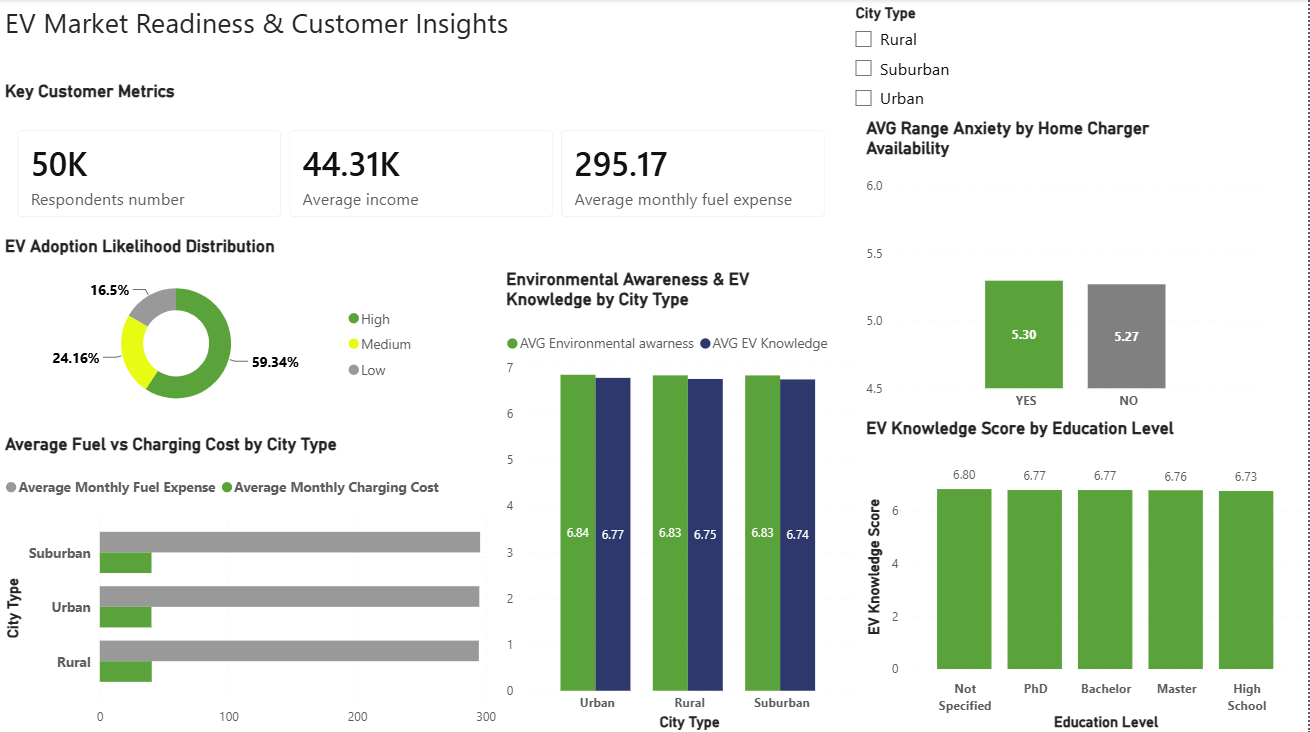

The dashboard page shown, as its layout file describes it:
{"tool":"powerbi","page":{"name":"Page 1","canvas":[1280,720],"ordinal":0},"visuals":[{"type":"cardVisual","title":"Key Customer Metrics","fields":{"Data":["CountNonNull(Dim_Customer - Sheet1.CustomerID)","Avg(Dim_Customer - Sheet1.annual_income)","Avg(Dim_Customer - Sheet1.fuel_expense_per_month)"]},"box":[0,79.5,824.2,151.6],"z":0},{"type":"donutChart","title":"EV Adoption Likelihood Distribution","fields":{"Category":["Fact_EV_Readiness - Sheet1.ev_adoption_likelihood"],"Y":["CountNonNull(Dim_Customer - Sheet1.CustomerID)"]},"box":[0,231.1,417,179.8],"z":1000},{"type":"clusteredBarChart","title":"Average Fuel vs Charging Cost by City Type","fields":{"Category":["Dim_Customer - Sheet1.city_type"],"Y":["Avg(Dim_Customer - Sheet1.fuel_expense_per_month)","Avg(Fact_EV_Readiness - Sheet1.monthly_charging_cost)"]},"box":[0,425.5,490.4,294.7],"z":2000},{"type":"columnChart","title":"AVG Range Anxiety by Home Charger Availability","fields":{"Category":["Fact_EV_Readiness - Sheet1.Home Charging Label"],"Y":["Avg(Fact_EV_Readiness - Sheet1.range_anxiety_score)"]},"box":[842.5,116.2,397.4,294.7],"z":2001},{"type":"textbox","box":[0,0,824.2,75.8],"z":2002},{"type":"slicer","fields":{"Values":["Dim_Customer - Sheet1.city_type"]},"box":[824.2,0,218.9,114.9],"z":2004},{"type":"columnChart","title":"EV Knowledge Score by Education Level","fields":{"Category":["Dim_Customer - Sheet1.education_level"],"Y":["Avg(Fact_EV_Readiness - Sheet1.ev_knowledge_score)"]},"box":[842.5,409.6,437.8,310.6],"z":2005},{"type":"clusteredColumnChart","title":"Environmental Awareness & EV Knowledge by City Type","fields":{"Category":["Dim_Customer - Sheet1.city_type"],"Y":["Avg(Fact_EV_Readiness - Sheet1.environmental_awareness_score)","Avg(Fact_EV_Readiness - Sheet1.ev_knowledge_score)"]},"box":[490.4,264.1,352.2,456.1],"z":2006}]}

Visuals, with their boxes in screenshot pixels (x1, y1, x2, y2), scaled from the page's 1280x720 canvas onto the 1310x732 screenshot:
"Key Customer Metrics" cardVisual: crop(0, 81, 844, 235)
"EV Adoption Likelihood Distribution" donutChart: crop(0, 235, 427, 418)
"Average Fuel vs Charging Cost by City Type" clusteredBarChart: crop(0, 433, 502, 731)
"AVG Range Anxiety by Home Charger Availability" columnChart: crop(862, 118, 1269, 418)
textbox: crop(0, 0, 844, 77)
slicer - Dim_Customer - Sheet1.city_type: crop(844, 0, 1068, 117)
"EV Knowledge Score by Education Level" columnChart: crop(862, 416, 1309, 731)
"Environmental Awareness & EV Knowledge by City Type" clusteredColumnChart: crop(502, 269, 862, 731)
